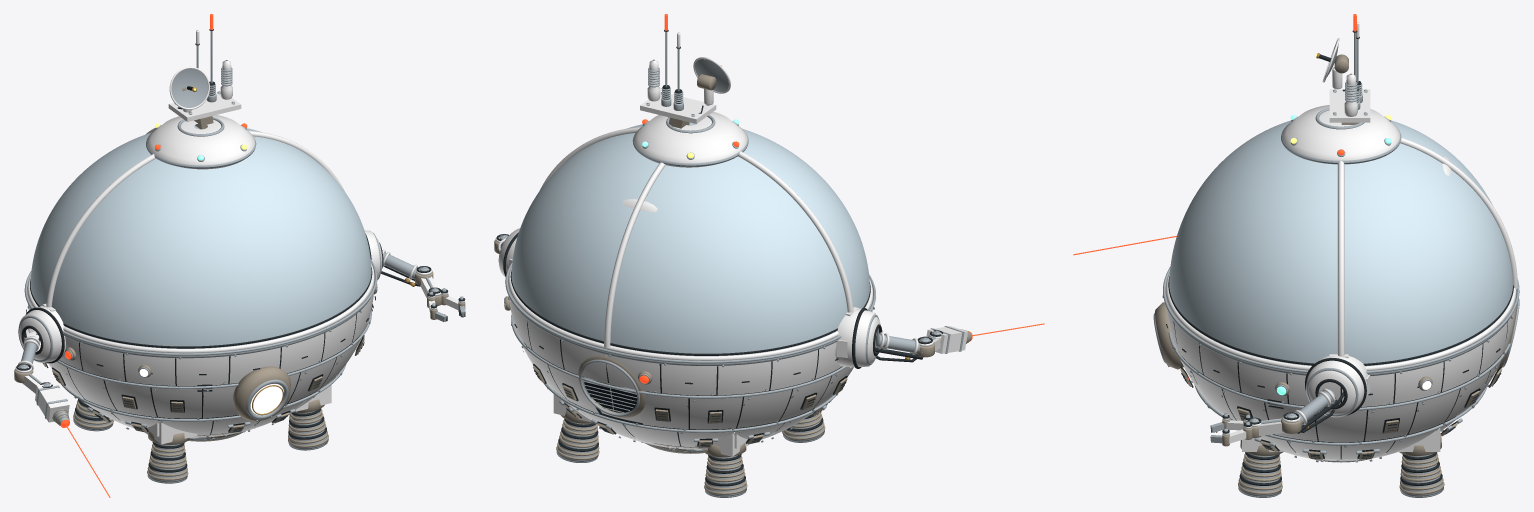
Rendered from Nervgear.glb.
3 renders of one model, left to right at view 1: azimuth 30°, elevation 25°; view 2: azimuth 150°, elevation 25°; view 3: azimuth 270°, elevation 25°, orthographic. The views are drawn at different scales.
Parts seen in each view (by area): view 1: Verrière panoramique / une pièce, Couronne supérieure, Cerclage elliptique de verrière.001, Coque / rangée 01 / plaque 14, Bâbord / module latéral, Coque / rangée 01 / plaque 13, Jonc circulaire de coque, Phare de proue / logement, Coque / rangée 02 / plaque 13, Coque / rangée 01 / plaque 12, Arceau porteur de verrière.001, Coque / rangée 01 / plaque 16 (+20 smaller); view 2: Verrière panoramique / une pièce, Couronne supérieure, Cerclage elliptique de verrière.001, Coque / rangée 01 / plaque 07, Bâbord / module latéral, Coque / rangée 01 / plaque 08, Jonc circulaire de coque, Coque / rangée 02 / plaque 07, Coque / rangée 02 / plaque 08, Arceau porteur de verrière.002, Coque / rangée 01 / plaque 09, Arceau porteur de verrière.001 (+18 smaller); view 3: Verrière panoramique / une pièce, Couronne supérieure, Cerclage elliptique de verrière.001, Tribord / module latéral, Arceau porteur de verrière, Jonc circulaire de coque, Coque / rangée 01 / plaque 02, Coque / rangée 02 / plaque 20, Coque / rangée 01 / plaque 19, Coque / rangée 02 / plaque 01, Sous-coque continue / joints, Arceau porteur de verrière.002 (+22 smaller).
Part boxes in pixels (box(x1,y1,x2,y2)): Verrière panoramique / une pièce: box(30, 125, 371, 348); Couronne supérieure: box(147, 115, 254, 169); Cerclage elliptique de verrière.001: box(27, 263, 374, 353); Coque / rangée 01 / plaque 14: box(176, 356, 228, 386); Bâbord / module latéral: box(19, 305, 65, 362); Coque / rangée 01 / plaque 13: box(124, 353, 175, 385); Jonc circulaire de coque: box(24, 259, 377, 355); Phare de proue / logement: box(233, 366, 290, 420); Coque / rangée 02 / plaque 13: box(151, 387, 201, 418); Coque / rangée 01 / plaque 12: box(80, 342, 125, 381); Arceau porteur de verrière.001: box(46, 154, 155, 307); Coque / rangée 01 / plaque 16: box(280, 333, 324, 373); Verrière panoramique / une pièce: box(511, 122, 869, 356); Couronne supérieure: box(634, 112, 747, 167); Cerclage elliptique de verrière.001: box(508, 266, 873, 360); Coque / rangée 01 / plaque 07: box(661, 364, 716, 395); Bâbord / module latéral: box(835, 308, 880, 367); Coque / rangée 01 / plaque 08: box(717, 361, 771, 395); Jonc circulaire de coque: box(505, 262, 875, 363); Coque / rangée 02 / plaque 07: box(689, 397, 742, 429); Coque / rangée 02 / plaque 08: box(737, 389, 791, 427); Arceau porteur de verrière.002: box(604, 162, 665, 347); Coque / rangée 01 / plaque 09: box(770, 350, 817, 390); Arceau porteur de verrière.001: box(738, 151, 853, 312); Verrière panoramique / une pièce: box(1169, 120, 1512, 366); Couronne supérieure: box(1282, 105, 1400, 160); Cerclage elliptique de verrière.001: box(1166, 272, 1516, 370); Tribord / module latéral: box(1306, 355, 1368, 417); Arceau porteur de verrière: box(1337, 161, 1344, 356); Jonc circulaire de coque: box(1163, 267, 1519, 373); Coque / rangée 01 / plaque 02: box(1394, 362, 1443, 403); Coque / rangée 02 / plaque 20: box(1315, 410, 1366, 442); Coque / rangée 01 / plaque 19: box(1238, 362, 1287, 403); Coque / rangée 02 / plaque 01: box(1364, 402, 1416, 441); Sous-coque continue / joints: box(1174, 321, 1507, 458); Arceau porteur de verrière.002: box(1400, 137, 1517, 288).
Bounding box in the file's own units: 8.54 × 7.89 × 7.11.
